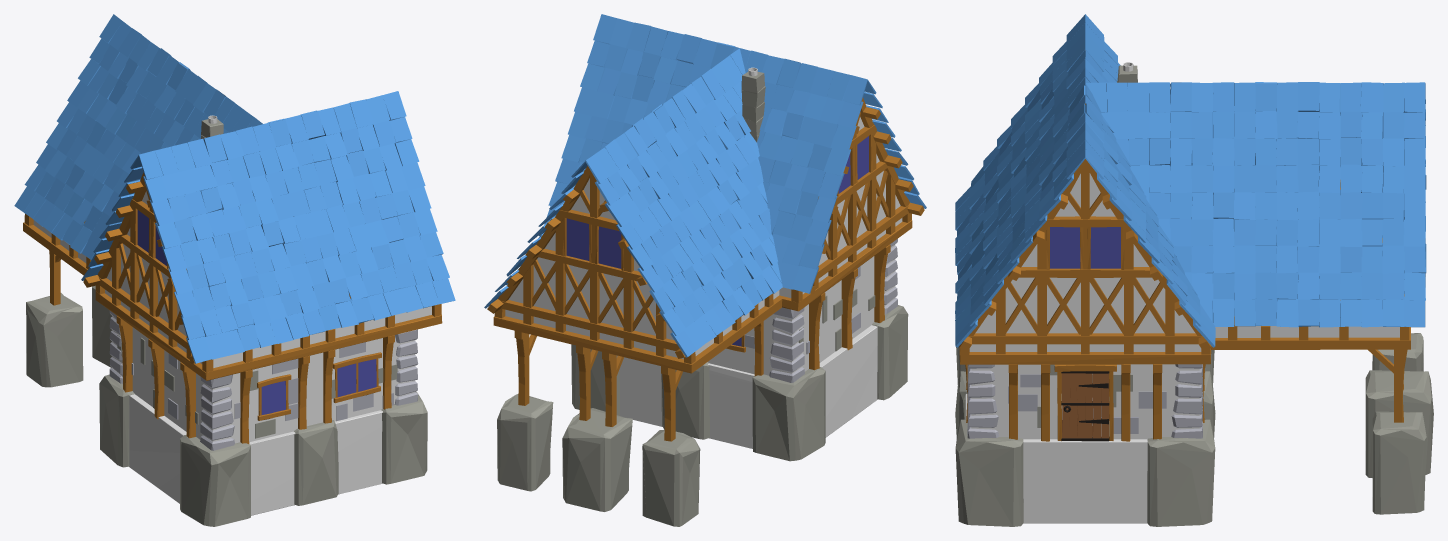
File: BikHouse1.fbx
The picture shows the model from 3 angles, left to right: view 1: azimuth 30°, elevation 25°; view 2: azimuth 150°, elevation 25°; view 3: azimuth 270°, elevation 25°; orthographic projection. The views are drawn at different scales.
Parts seen in each view (by area): view 1: House1; view 2: House1; view 3: House1.
Part boxes in pixels (x1,y1,x2,y2): House1: [14, 14, 455, 526]; House1: [484, 14, 926, 526]; House1: [955, 14, 1433, 526].
Bounding box in the file's own units: 1039 × 1285 × 1457.
